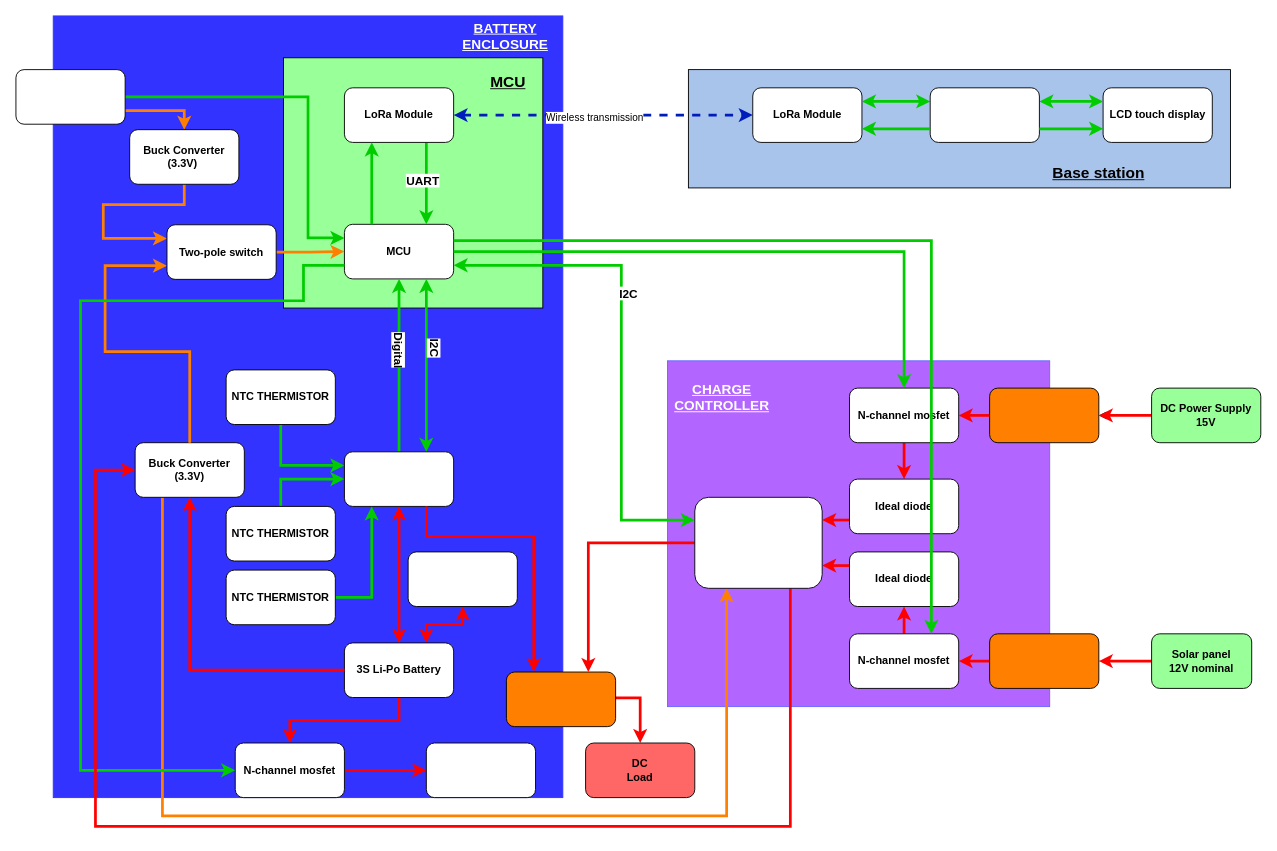
The diagram is 1277 pixels wide and 851 high, and some of its shapes have lost their labels. Here are the shapes that lost their labels. From the top down, the centre of each, then its label:
(x=70, y=96): USB debug port
(x=984, y=114): Base station MCU
(x=1044, y=415): DC CHARGE PORT
(x=399, y=478): BATTERY MONITOR IC
(x=758, y=542): CHARGE CONTROLLER IC
(x=462, y=579): Passive cell balancer
(x=1044, y=660): PV CHARGE PORT
(x=561, y=699): DISCHARGE PORT
(x=480, y=770): Heating element
